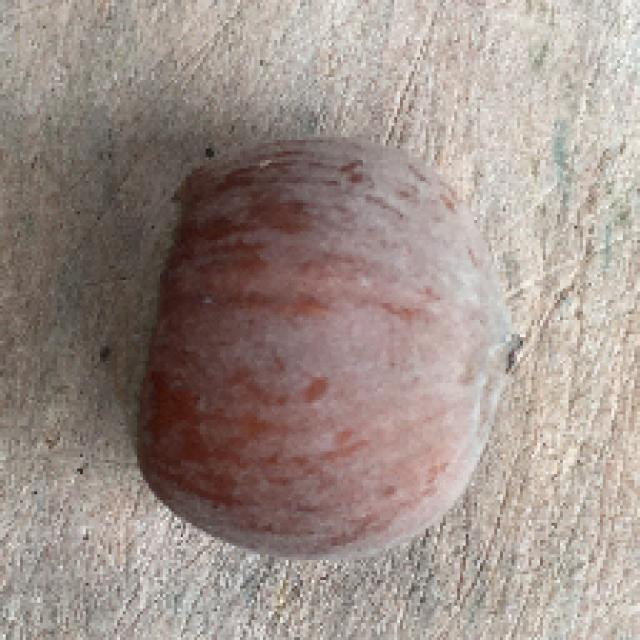qualityHazelnut: (104, 132, 534, 562)
